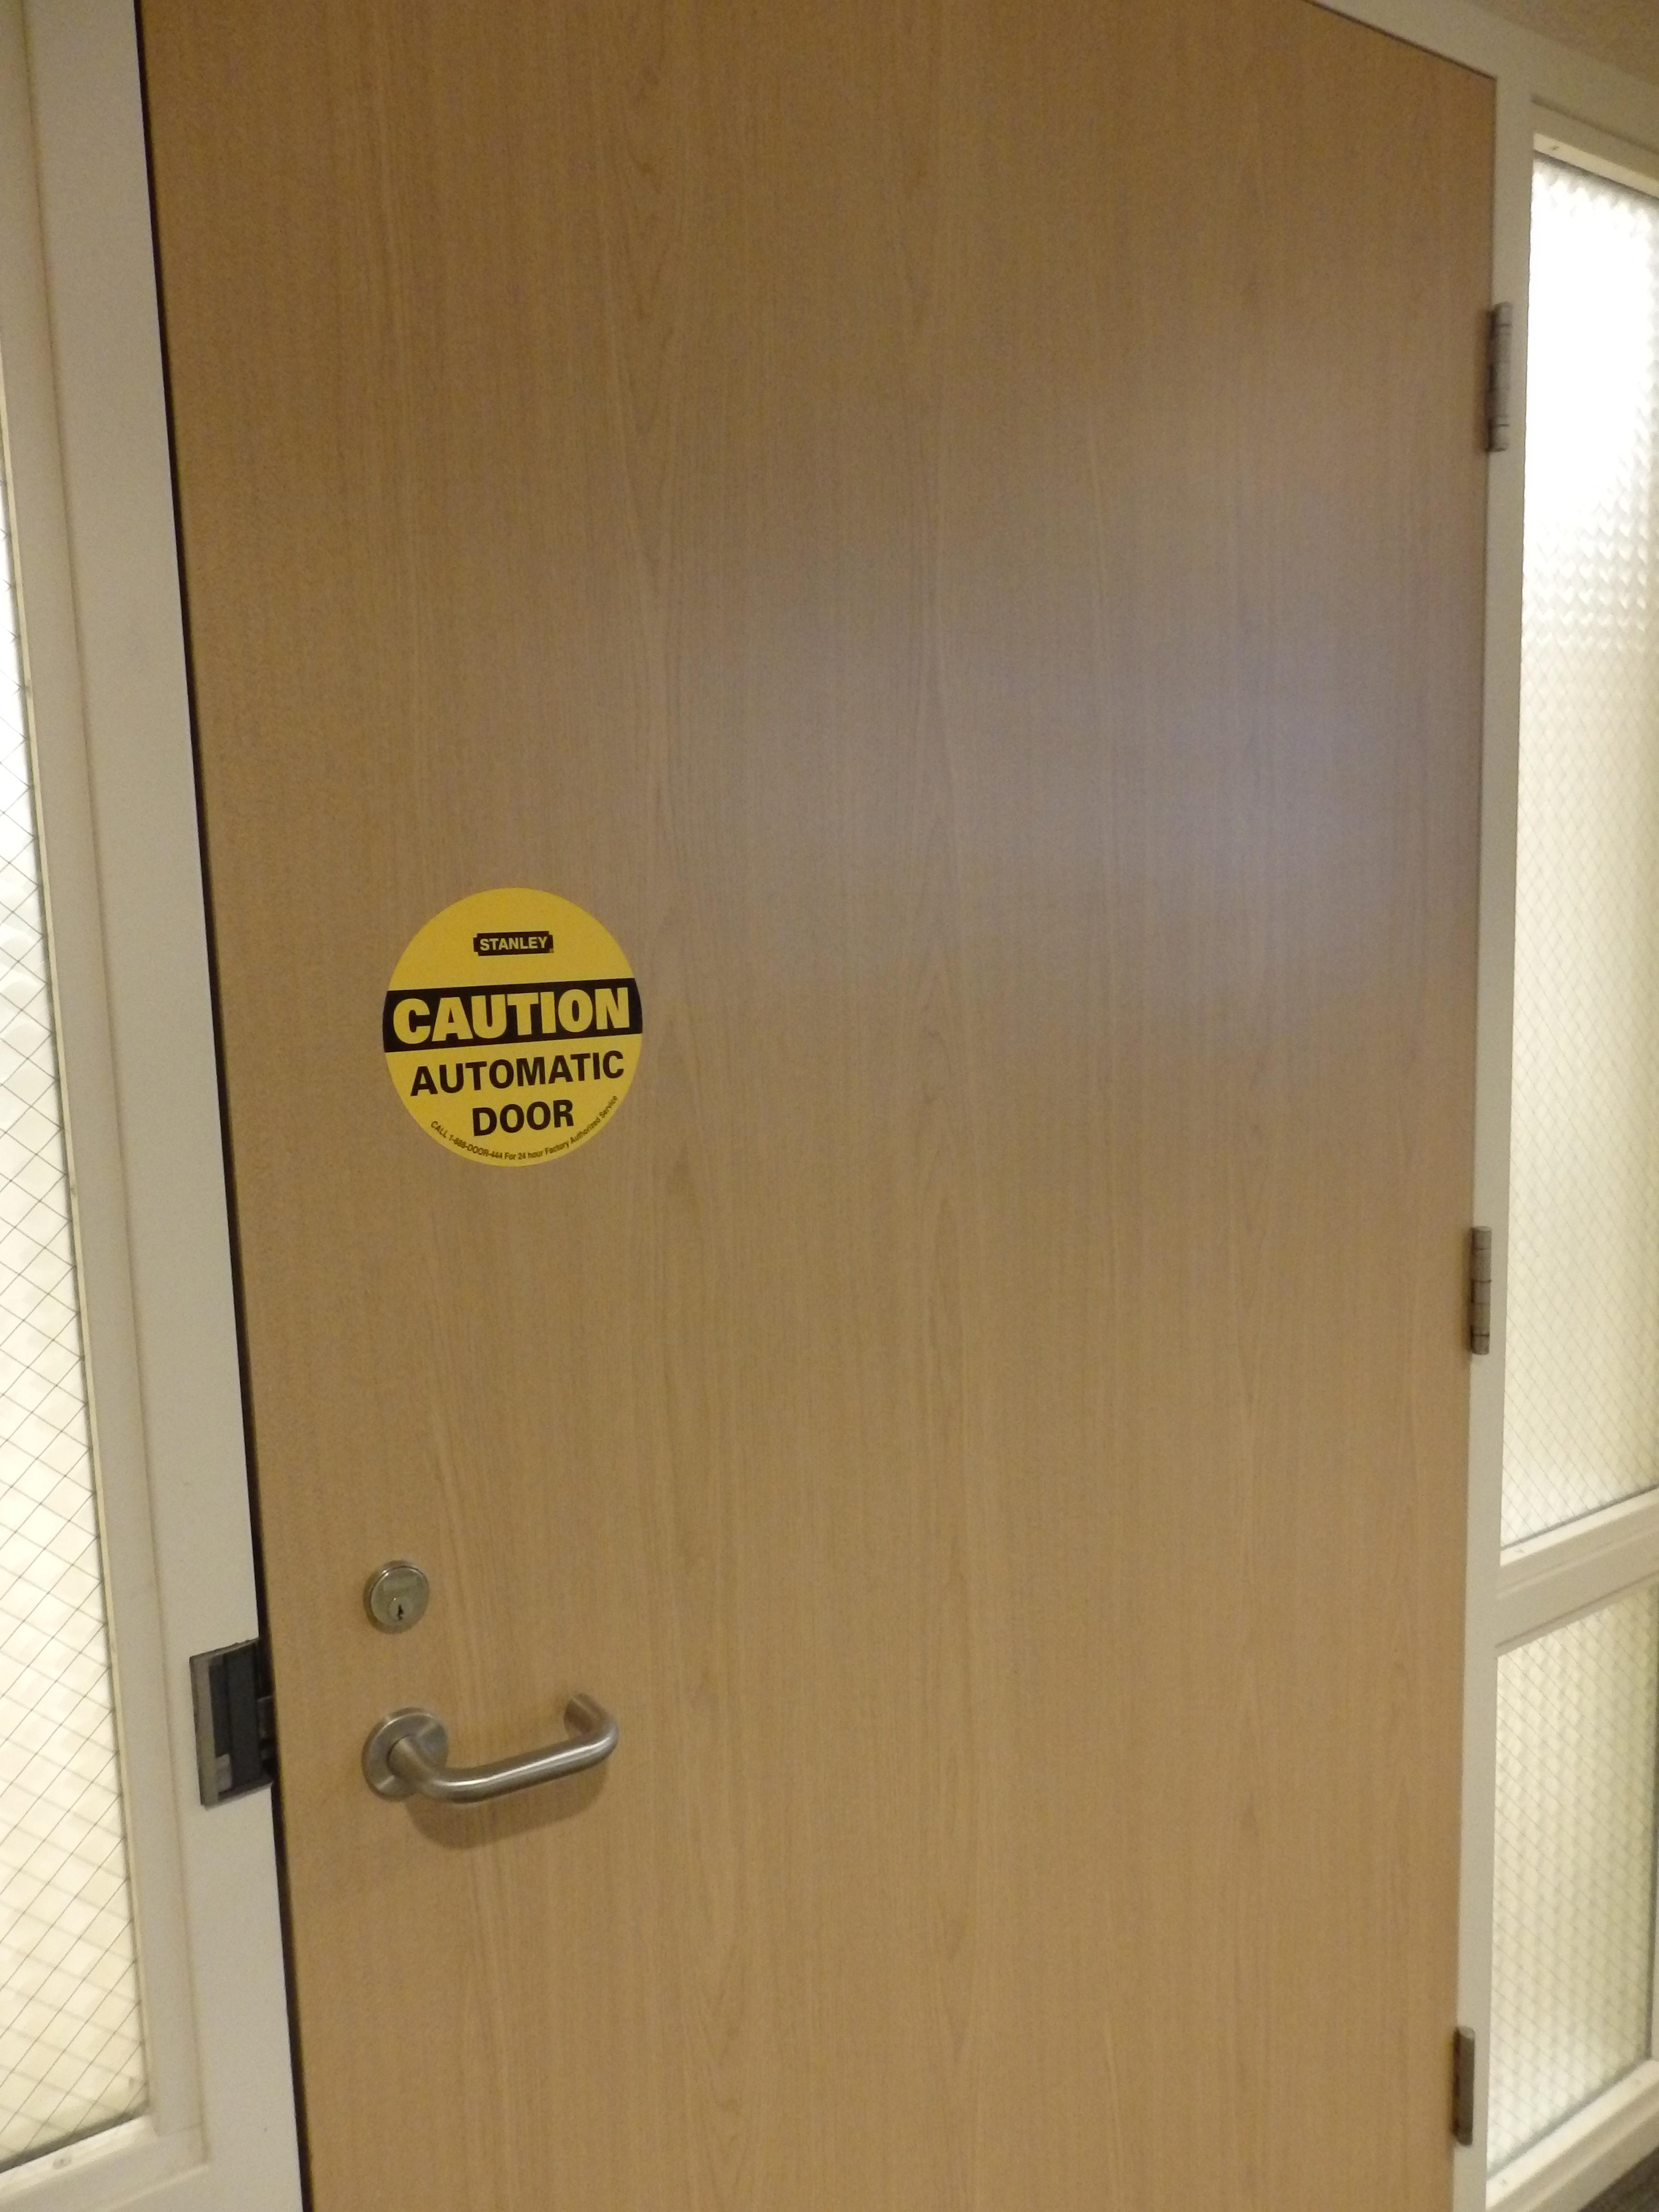door: (129, 0, 1471, 2202)
